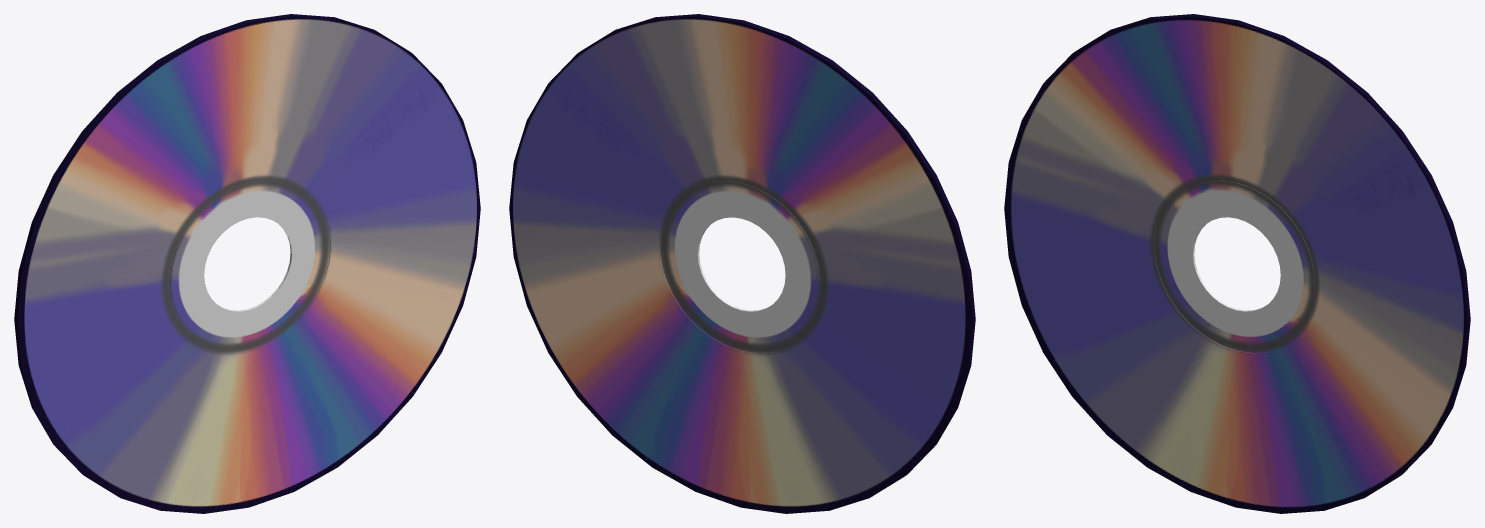
3 renders of one model, left to right at view 1: azimuth 30°, elevation 25°; view 2: azimuth 150°, elevation 25°; view 3: azimuth 330°, elevation 25°, orthographic.
Visible parts, largest first — view 1: CD; view 2: CD; view 3: CD.
Boxes of the visible parts, x1=… form: CD: x1=14, y1=14, x2=480, y2=513; CD: x1=509, y1=14, x2=975, y2=513; CD: x1=1004, y1=14, x2=1470, y2=513.
Bounding box in the file's own units: 412 × 412 × 4.97.
